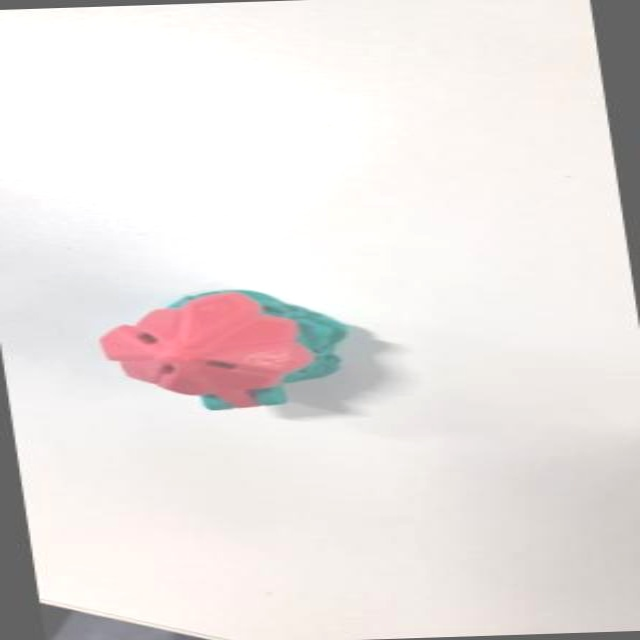House: (90, 277, 376, 412)
